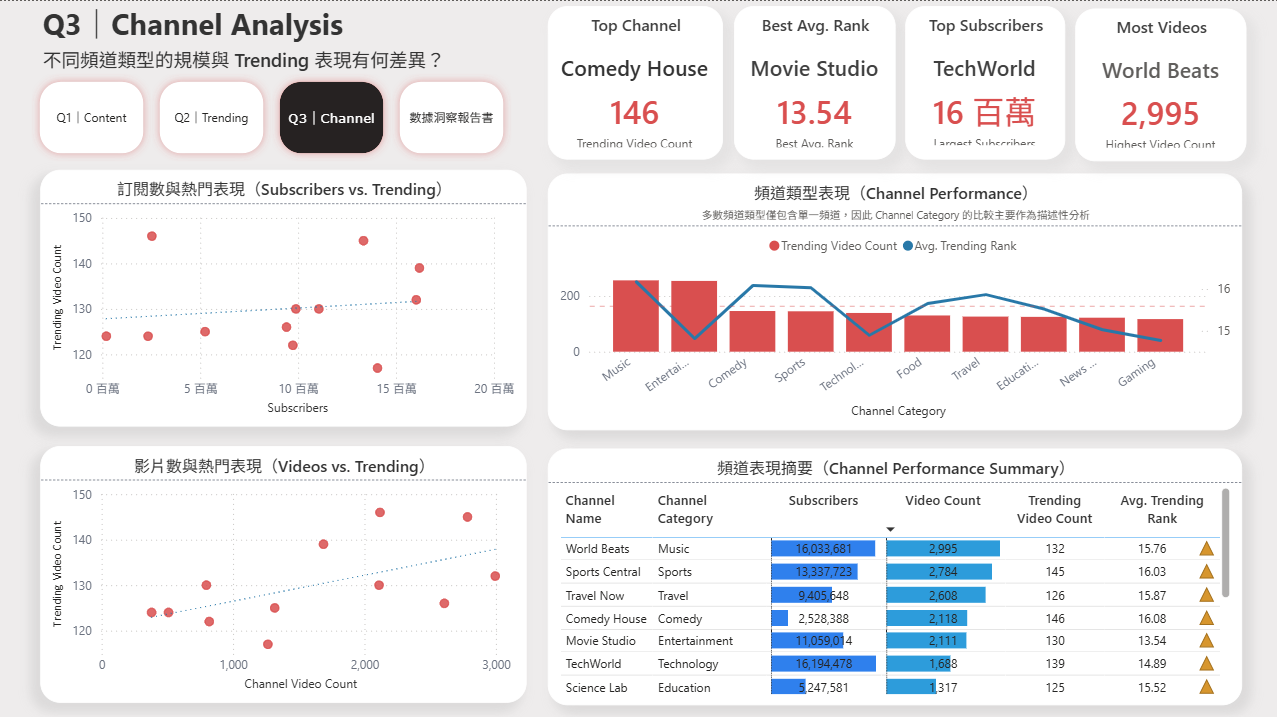

The dashboard page shown, as its layout file describes it:
{"tool":"powerbi","page":{"name":"Q3｜Channel ","canvas":[1280,720],"ordinal":2},"visuals":[{"type":"textbox","title":"Q3｜Channel Analysis","box":[39.1,0,510.5,95.7],"z":0},{"type":"scatterChart","title":"訂閱數與熱門表現（Subscribers vs. Trending）","fields":{"X":["youtube_channels.Subscribers"],"Y":["量值表.Trending Video Count"]},"box":[41.1,169.2,486.7,256.8],"z":1000},{"type":"lineClusteredColumnComboChart","title":"頻道類型表現（Channel Performance）","fields":{"Category":["youtube_channels.Channel_Category"],"Y":["量值表.Trending Video Count"],"Y2":["量值表.Avg. Trending Rank"]},"box":[549.3,172.4,694.6,256.8],"z":2000},{"type":"scatterChart","title":"影片數與熱門表現（Videos vs. Trending）","fields":{"Y":["量值表.Trending Video Count"],"X":["youtube_channels.Video_Count"]},"box":[41.1,444.4,486.7,256.8],"z":3000},{"type":"tableEx","title":"頻道表現摘要（Channel Performance Summary）","fields":{"Values":["youtube_channels.Channel_Name","youtube_channels.Channel_Category","youtube_channels.Subscribers","youtube_channels.Video_Count","量值表.Trending Video Count","量值表.Avg. Trending Rank"]},"box":[549.3,447.6,694.6,256.8],"z":4000},{"type":"cardVisual","title":"Top Channel","fields":{"Data":["量值表.Trending Leader Channel","量值表.Trending Leader Channel Count"]},"box":[549.2,4.9,175,153.7],"z":5000},{"type":"cardVisual","title":"Best Avg. Rank","fields":{"Data":["量值表.Best Avg. Rank Channel","量值表.Best Avg. Rank Value"]},"box":[734.6,4.9,161.5,153.7],"z":6000},{"type":"cardVisual","title":"Top Subscribers","fields":{"Data":["量值表.Largest Channel","量值表.Largest Subscribers"]},"box":[905.9,5.2,159.9,153.4],"z":7000},{"type":"cardVisual","title":"Most Videos","fields":{"Data":["量值表.Most Active Channel","量值表.Highest Video Count"]},"box":[1076.4,7.8,171.1,152.7],"z":8000},{"type":"pageNavigator","box":[32,72.1,480.6,88],"z":9000}]}

Visuals, with their boxes in screenshot pixels (x1, y1, x2, y2), scaled from the page's 1280x720 canvas onto the 1277x717 screenshot:
"Q3｜Channel Analysis" textbox: 39 0 548 95
"訂閱數與熱門表現（Subscribers vs. Trending）" scatterChart: 41 168 527 424
"頻道類型表現（Channel Performance）" lineClusteredColumnComboChart: 548 172 1241 427
"影片數與熱門表現（Videos vs. Trending）" scatterChart: 41 443 527 698
"頻道表現摘要（Channel Performance Summary）" tableEx: 548 446 1241 701
"Top Channel" cardVisual: 548 5 723 158
"Best Avg. Rank" cardVisual: 733 5 894 158
"Top Subscribers" cardVisual: 904 5 1063 158
"Most Videos" cardVisual: 1074 8 1245 160
pageNavigator: 32 72 511 159
